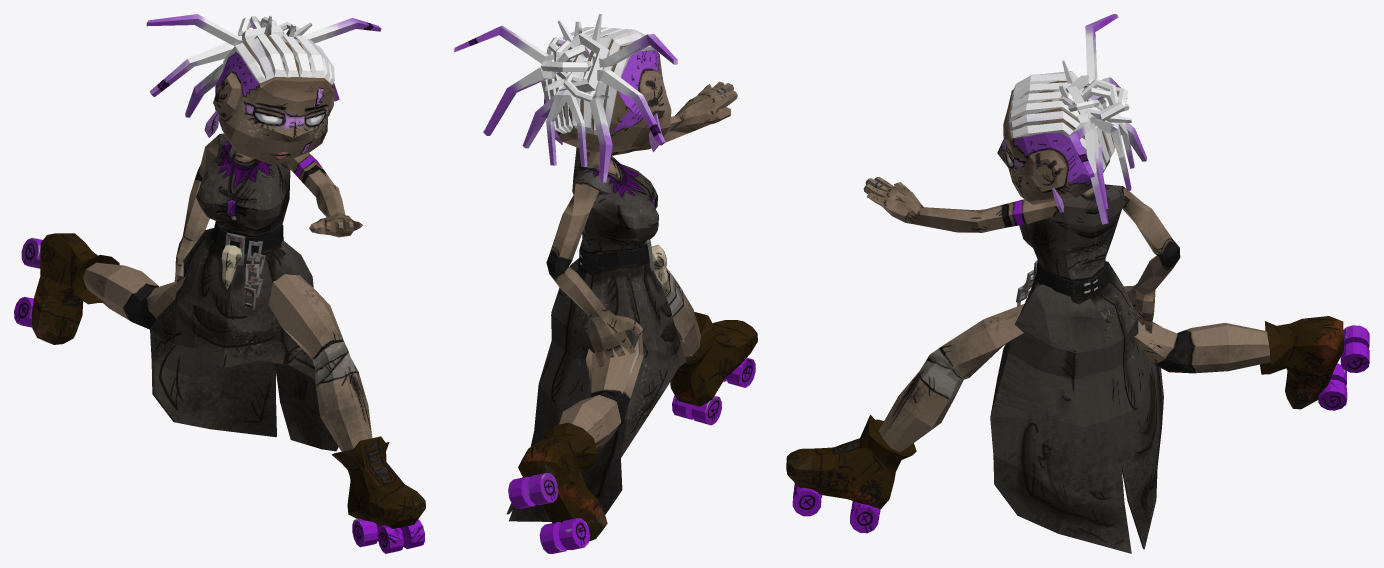
The model's file is bruja_000032.obj.
The picture shows the model from 3 angles, left to right: view 1: azimuth 30°, elevation 25°; view 2: azimuth 150°, elevation 25°; view 3: azimuth 270°, elevation 25°; orthographic projection. The views are drawn at different scales.
Visible parts, largest first — view 1: Bruja_Plane.001; view 2: Bruja_Plane.001; view 3: Bruja_Plane.001.
Boxes of the visible parts, x1,y1,x2,y2 form: Bruja_Plane.001: [14, 14, 425, 553]; Bruja_Plane.001: [454, 14, 757, 553]; Bruja_Plane.001: [786, 14, 1369, 553].
Bounding box in the file's own units: 8.01 × 14.62 × 16.39.
